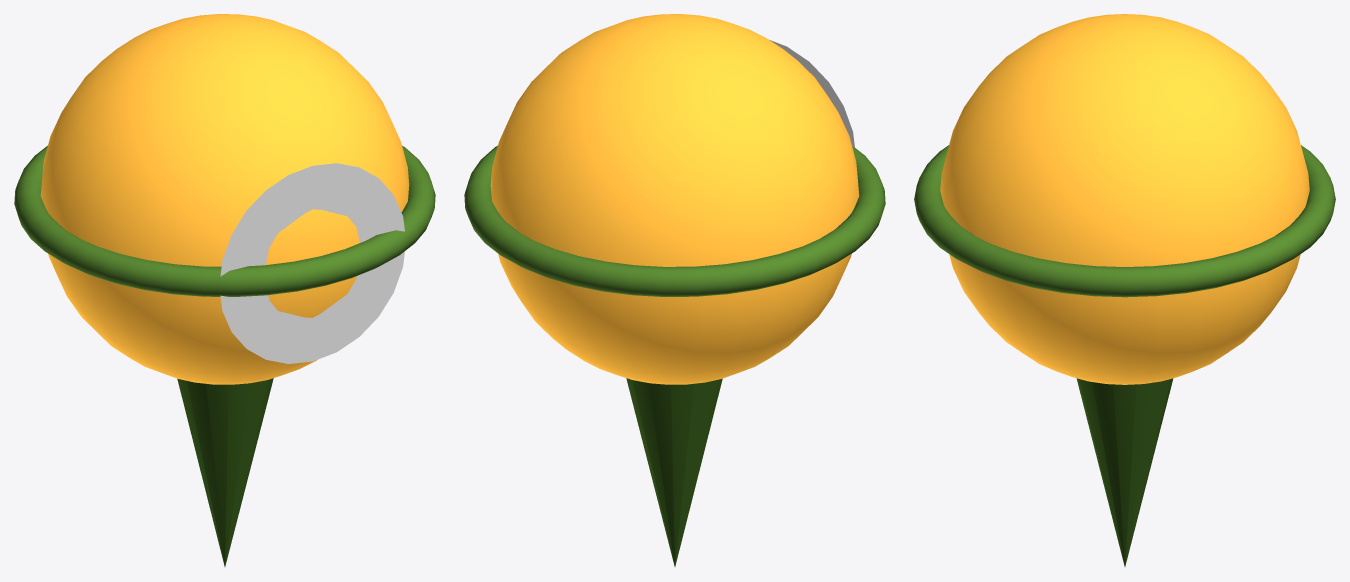
The picture shows the model from 3 angles, left to right: view 1: azimuth 30°, elevation 25°; view 2: azimuth 150°, elevation 25°; view 3: azimuth 270°, elevation 25°; orthographic projection.
Parts seen in each view (by area): view 1: hazardPin; view 2: hazardPin; view 3: hazardPin.
Part boxes in pixels (bbox=[...]): hazardPin: bbox=[14, 14, 435, 566]; hazardPin: bbox=[464, 14, 885, 566]; hazardPin: bbox=[914, 14, 1335, 566].
Bounding box in the file's own units: 1.25 × 1.76 × 1.25.
